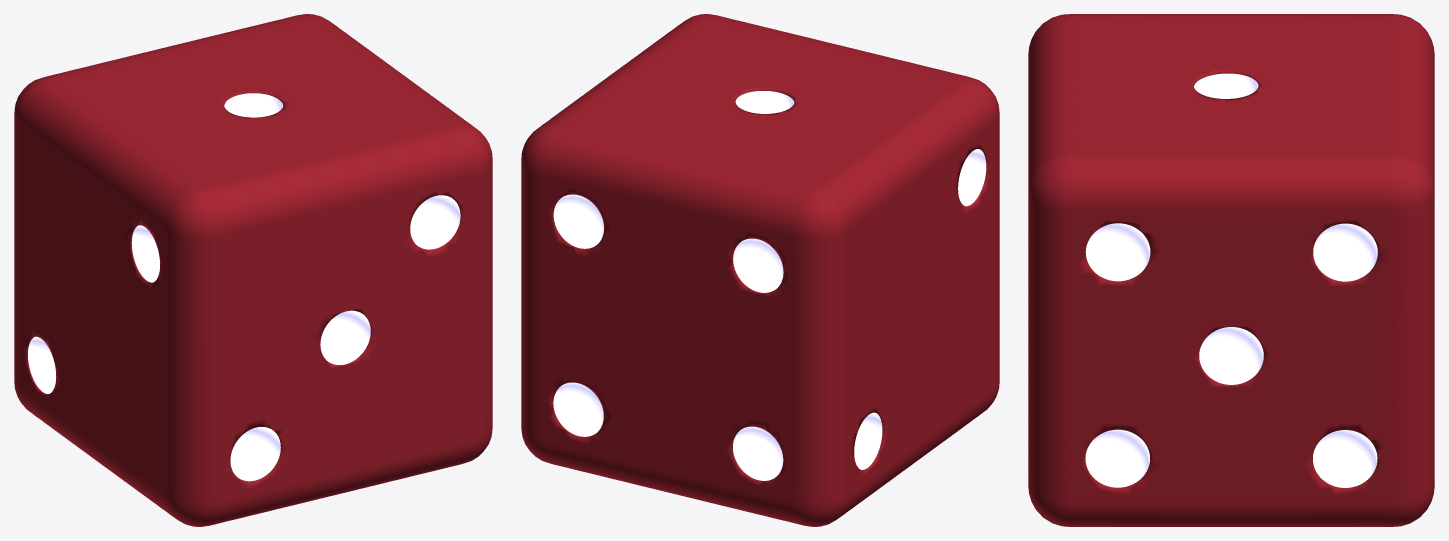
Rendered from dice.gltf.
3 views of the same model, side by side, from view 1: azimuth 30°, elevation 25°; view 2: azimuth 150°, elevation 25°; view 3: azimuth 270°, elevation 25° (orthographic). The views are drawn at different scales.
Visible parts, largest first — view 1: Icosphere; view 2: Icosphere; view 3: Icosphere.
Part boxes in pixels (box(x1,y1,x2,y2)): Icosphere: box(14, 14, 492, 526); Icosphere: box(521, 14, 999, 526); Icosphere: box(1028, 14, 1434, 526).
Bounding box in the file's own units: 2.5 × 2.5 × 2.5.
